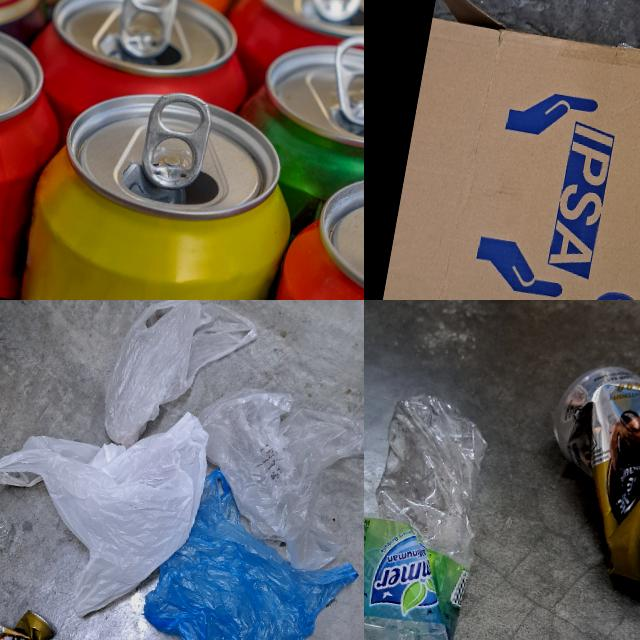aba de lata: (136, 81, 216, 196), (111, 0, 182, 61), (323, 25, 364, 127)
garrafa plástica: (364, 379, 500, 640)
lata: (19, 71, 307, 300), (23, 0, 261, 128), (526, 355, 640, 599), (231, 29, 364, 212), (0, 11, 59, 298), (271, 158, 364, 300), (0, 600, 57, 640)
papelão: (364, 0, 640, 300)
sacola plástica: (0, 378, 217, 633), (129, 458, 364, 640), (176, 377, 364, 577), (97, 300, 263, 464)
